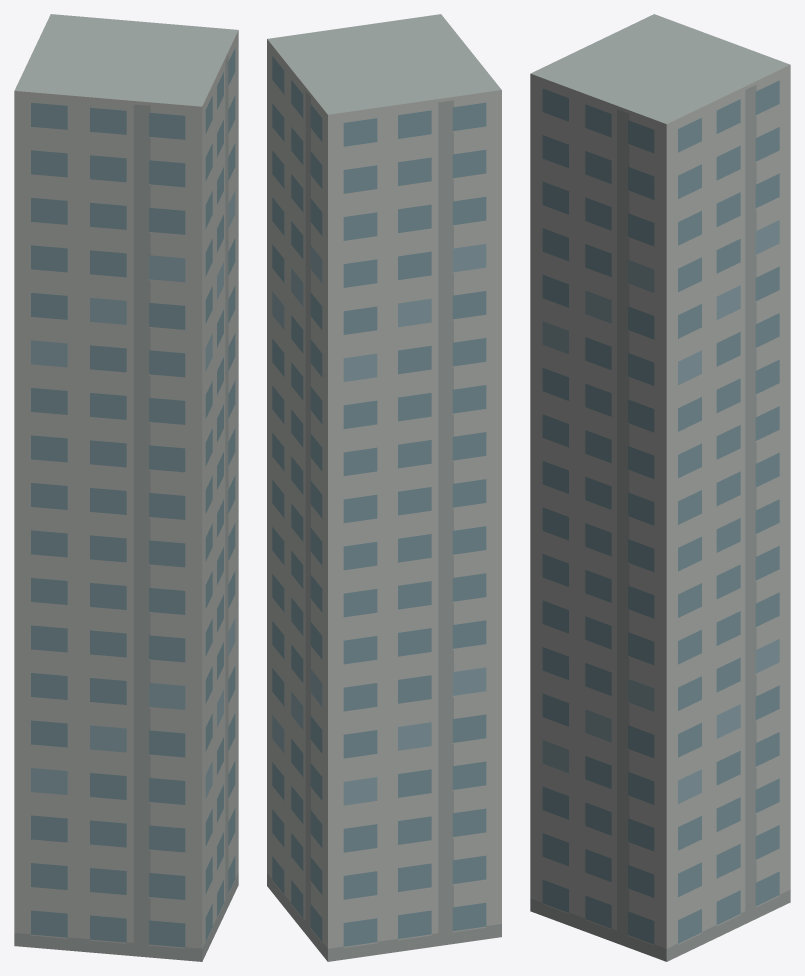
Rendered from residential-24711696-7a6b-4678-98a1-e9d3fd953e9c.glb.
3 views of the same model, side by side, from view 1: azimuth 30°, elevation 25°; view 2: azimuth 150°, elevation 25°; view 3: azimuth 270°, elevation 25° (orthographic). The views are drawn at different scales.
Visible parts, largest first — view 1: residential-24711696-7a6b-4678-98a1-e9d3fd953e9c.tmp; view 2: residential-24711696-7a6b-4678-98a1-e9d3fd953e9c.tmp; view 3: residential-24711696-7a6b-4678-98a1-e9d3fd953e9c.tmp.
Boxes of the visible parts, box(x1,y1,x2,y2) form: residential-24711696-7a6b-4678-98a1-e9d3fd953e9c.tmp: box(14, 14, 238, 961); residential-24711696-7a6b-4678-98a1-e9d3fd953e9c.tmp: box(267, 14, 501, 961); residential-24711696-7a6b-4678-98a1-e9d3fd953e9c.tmp: box(530, 14, 790, 961).
Size of the model in its own units: 16.66 by 59 by 16.62.
